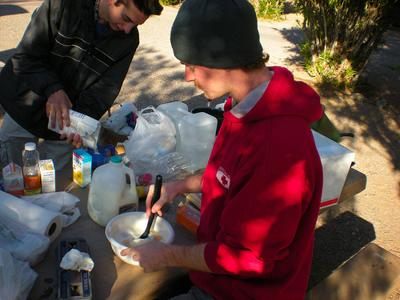person: (134, 2, 324, 300)
